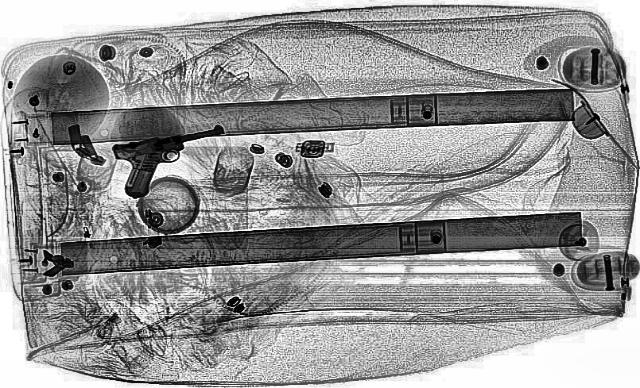Gun: (92, 119, 254, 197)
